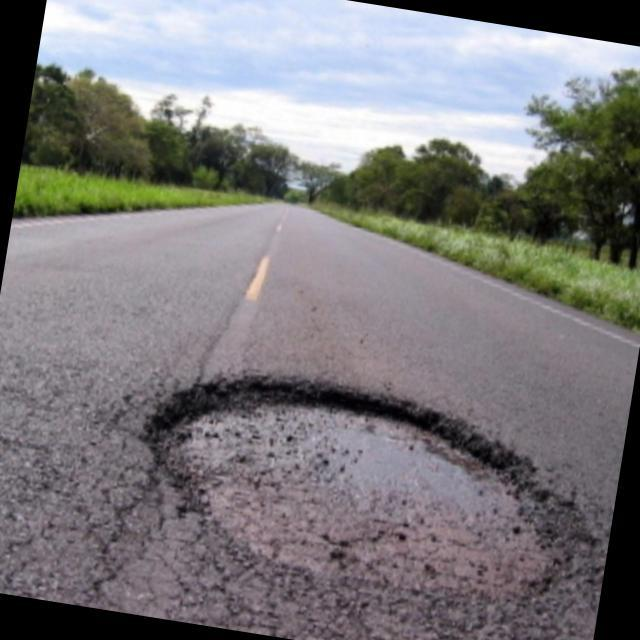Pothole: (132, 362, 579, 622)
